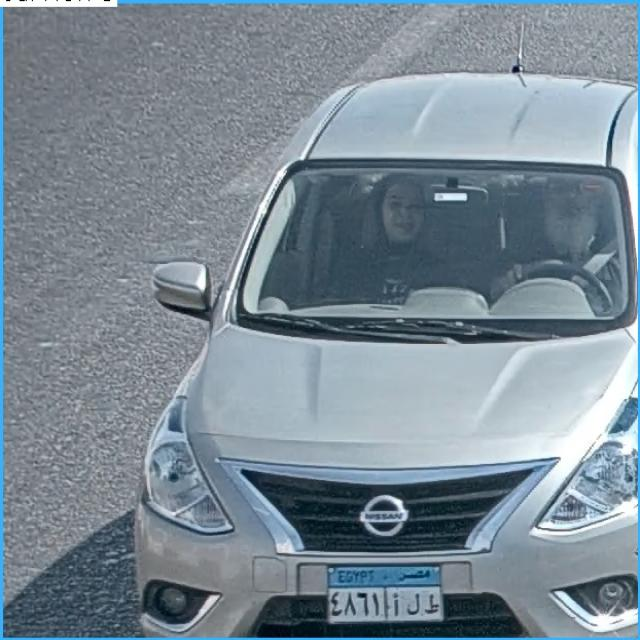windshield: (218, 161, 635, 318)
